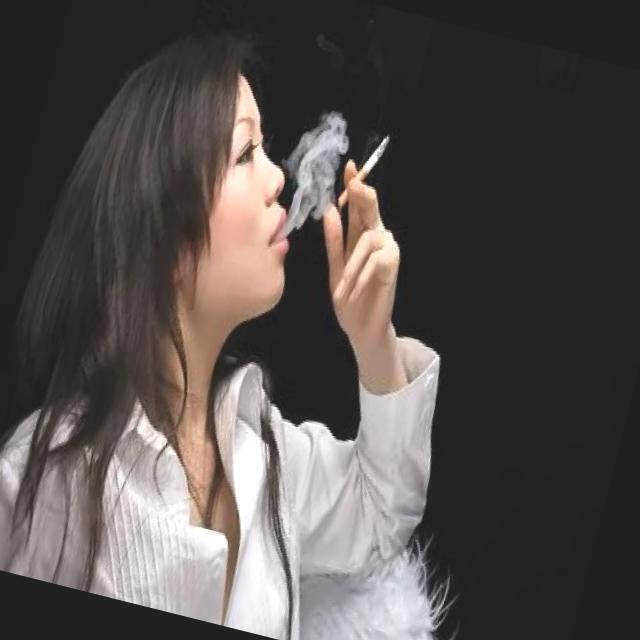cigarette: (331, 125, 392, 218)
